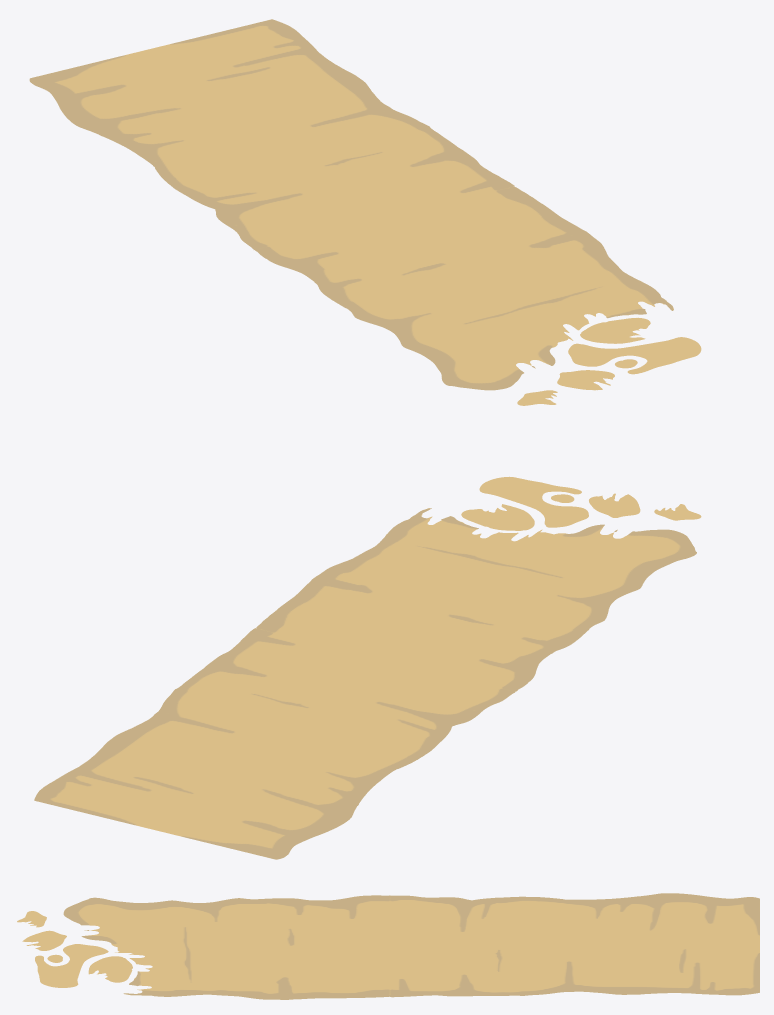
The model's file is Mesh_Home_RF_Road.fbx.
3 renders of one model, top to bottom at view 1: azimuth 30°, elevation 25°; view 2: azimuth 150°, elevation 25°; view 3: azimuth 270°, elevation 25°, orthographic. The views are drawn at different scales.
Visible parts, largest first — view 1: Mesh_Home_RF_Road; view 2: Mesh_Home_RF_Road; view 3: Mesh_Home_RF_Road.
Part boxes in pixels (x1,y1,x2,y2): Mesh_Home_RF_Road: [29, 19, 701, 405]; Mesh_Home_RF_Road: [34, 476, 701, 859]; Mesh_Home_RF_Road: [17, 893, 759, 999].
Size of the model in its own units: 110 by 0 by 322.
Materials: 1 (1 with a texture image).
